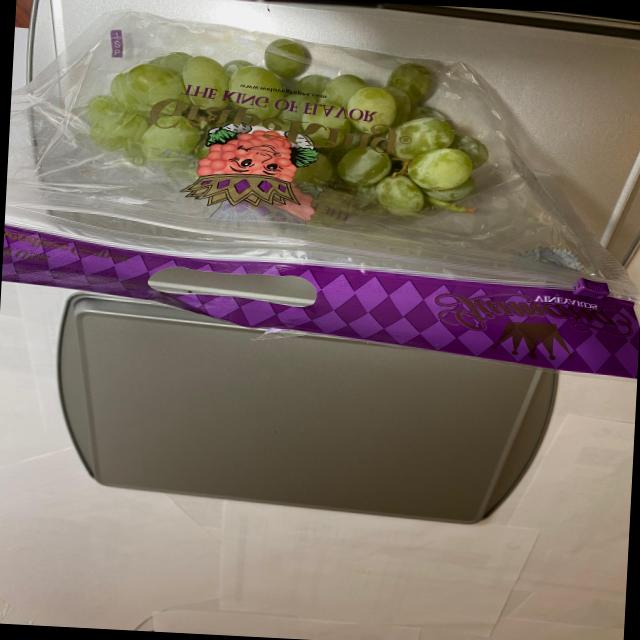grapes: (54, 31, 514, 230)
